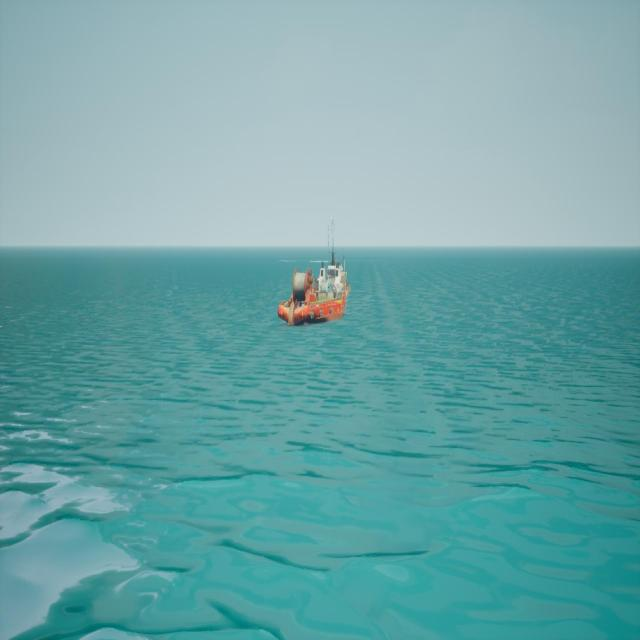tug boat: (283, 220, 351, 329)
